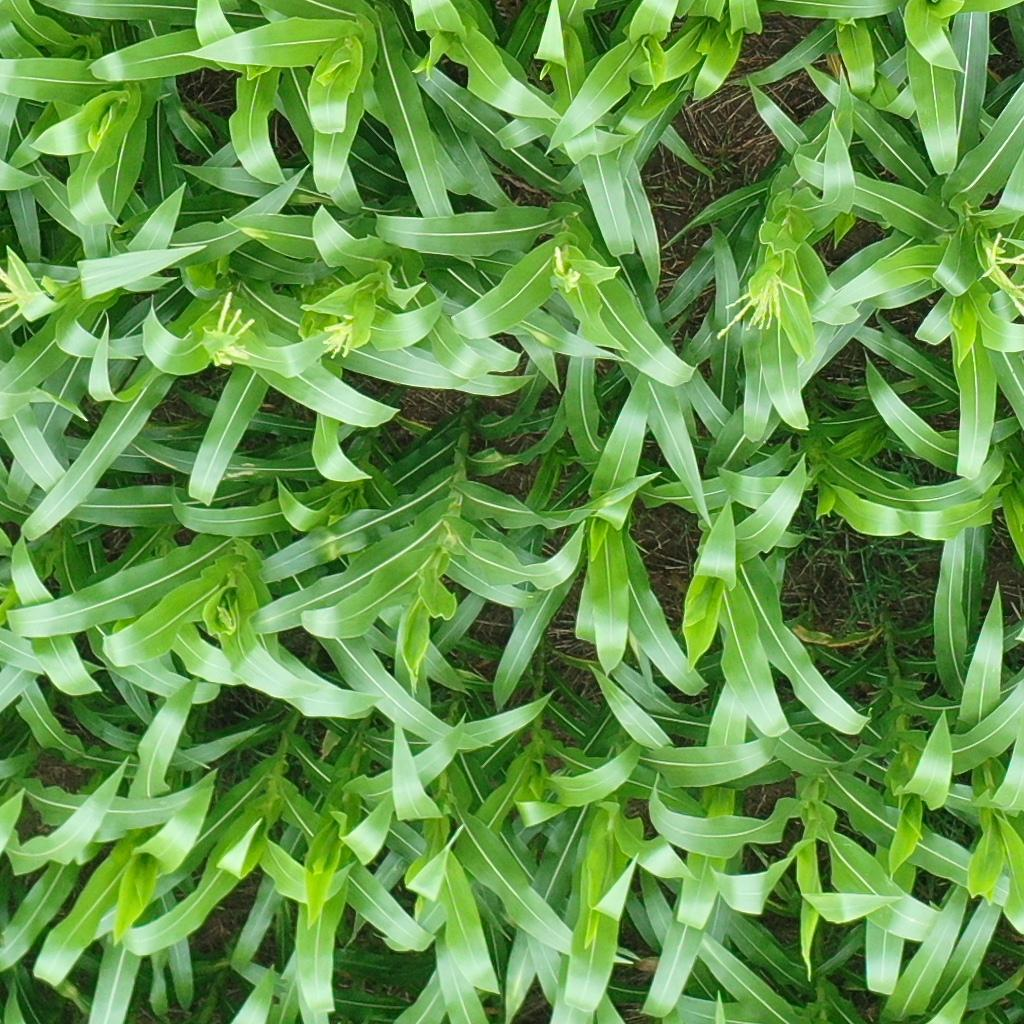Tassel: (714, 269, 806, 343), (202, 290, 254, 372), (974, 230, 1024, 307), (1, 263, 47, 329), (318, 314, 360, 360), (547, 243, 583, 296)
